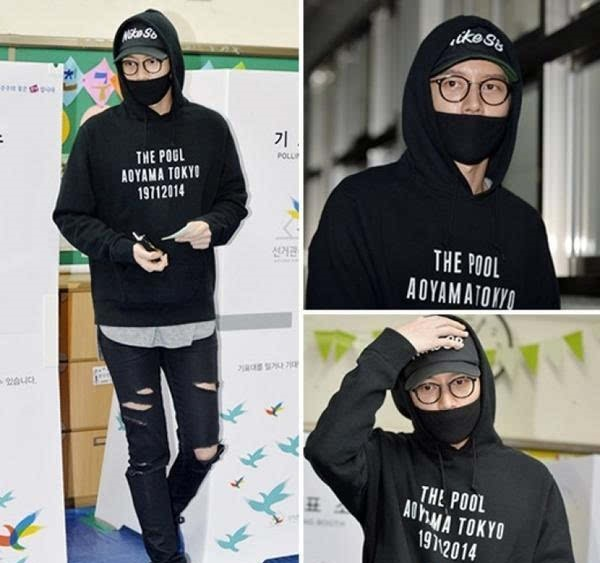face_mask: (426, 50, 511, 158), (409, 355, 479, 438), (119, 44, 171, 101)
